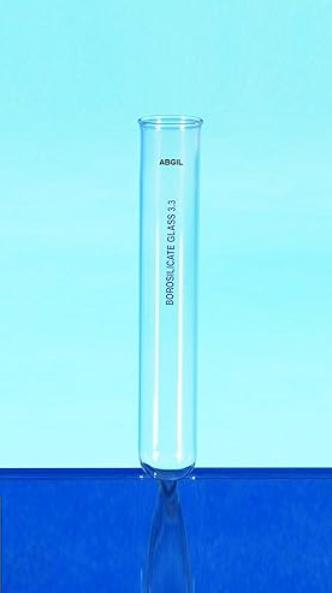Test tube: (134, 104, 199, 488)
